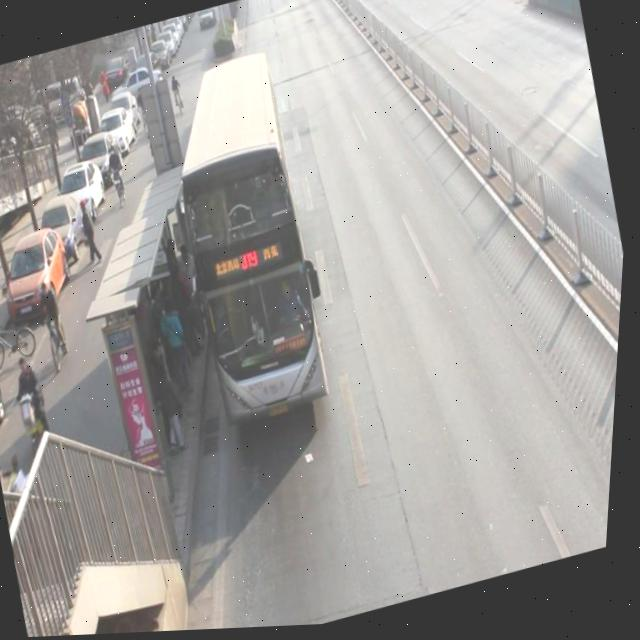van: (148, 53, 349, 430)
